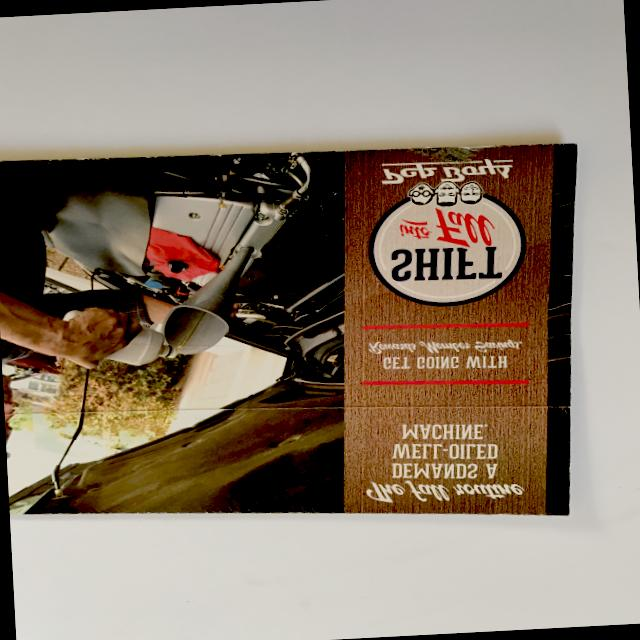Paper: (0, 123, 602, 550)
